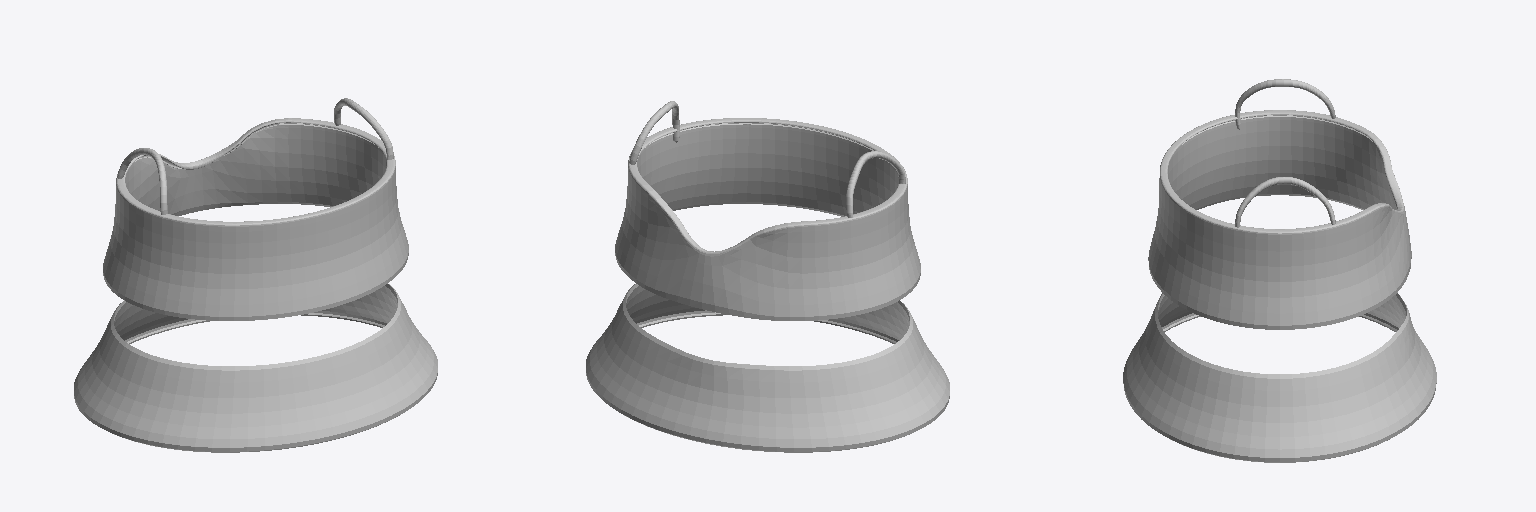
File: VestidoSeparado.obj
The picture shows the model from 3 angles: view 1: azimuth 30°, elevation 25°; view 2: azimuth 150°, elevation 25°; view 3: azimuth 270°, elevation 25°; orthographic projection.
Parts seen in each view (by area): view 1: Vestido.002; view 2: Vestido.002; view 3: Vestido.002.
Boxes of the visible parts, x1,y1,x2,y2 form: Vestido.002: [74, 98, 437, 452]; Vestido.002: [586, 101, 949, 452]; Vestido.002: [1123, 79, 1436, 462].
Bounding box in the file's own units: 28.56 × 21.15 × 23.54.